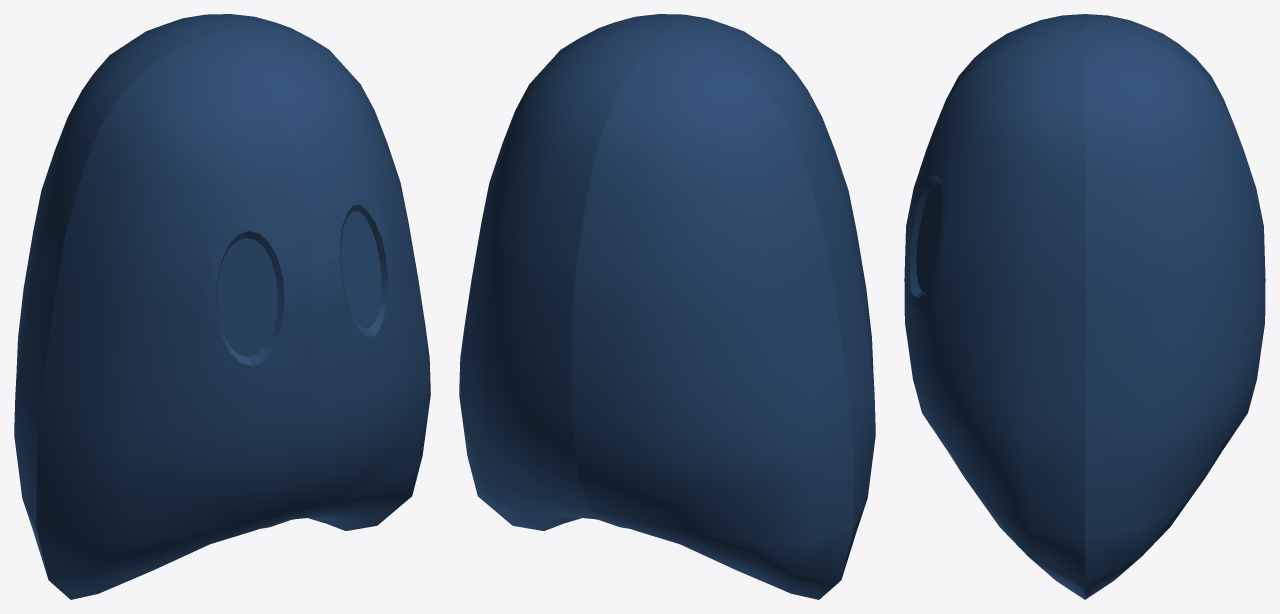
Rendered from Blob.fbx.
The picture shows the model from 3 angles, left to right: view 1: azimuth 30°, elevation 25°; view 2: azimuth 150°, elevation 25°; view 3: azimuth 270°, elevation 25°; orthographic projection. The views are drawn at different scales.
Visible parts, largest first — view 1: pSphere12; view 2: pSphere12; view 3: pSphere12.
Part boxes in pixels (x1,y1,x2,y2): pSphere12: (14, 14, 430, 599); pSphere12: (459, 14, 875, 599); pSphere12: (904, 14, 1265, 599).
Size of the model in its own units: 21.06 by 28.74 by 18.82.
